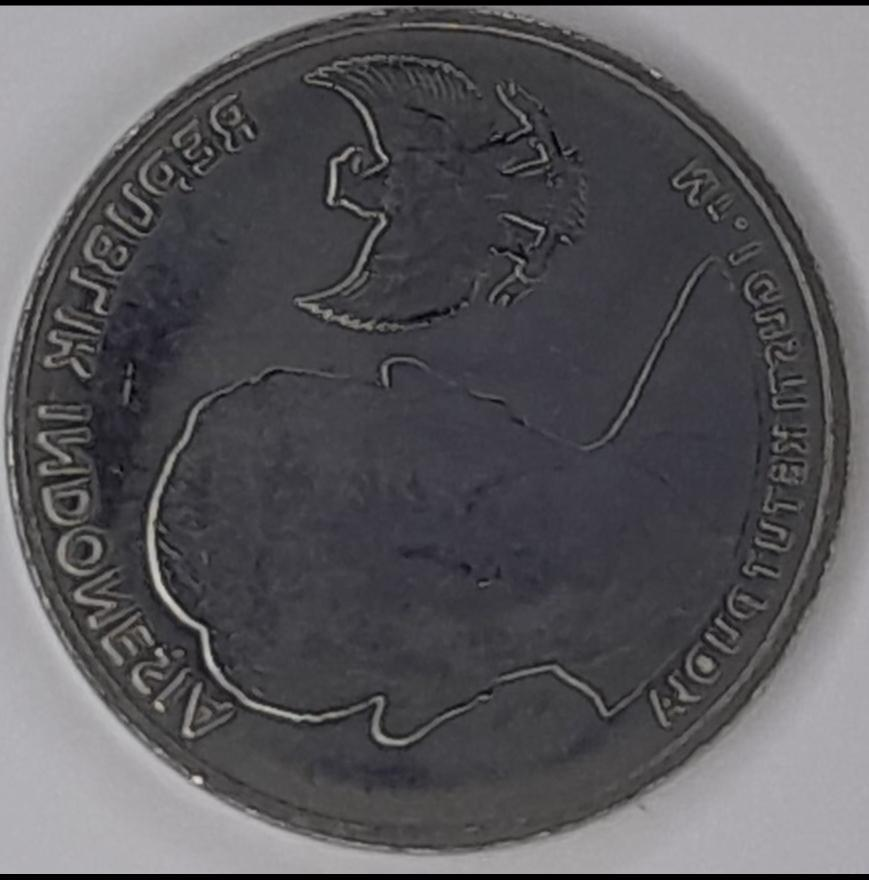coin_1000_e2016: (15, 17, 858, 880)
